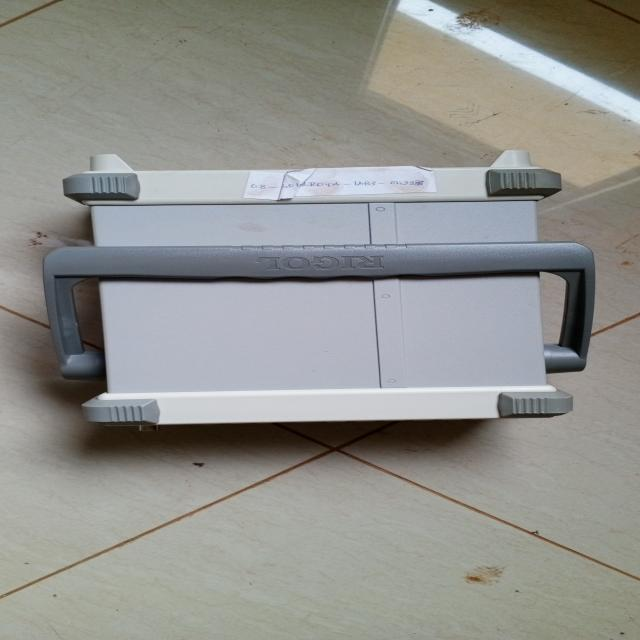Function Arbitrary Wave Form Generator 25Mhz: (21, 150, 611, 439)
